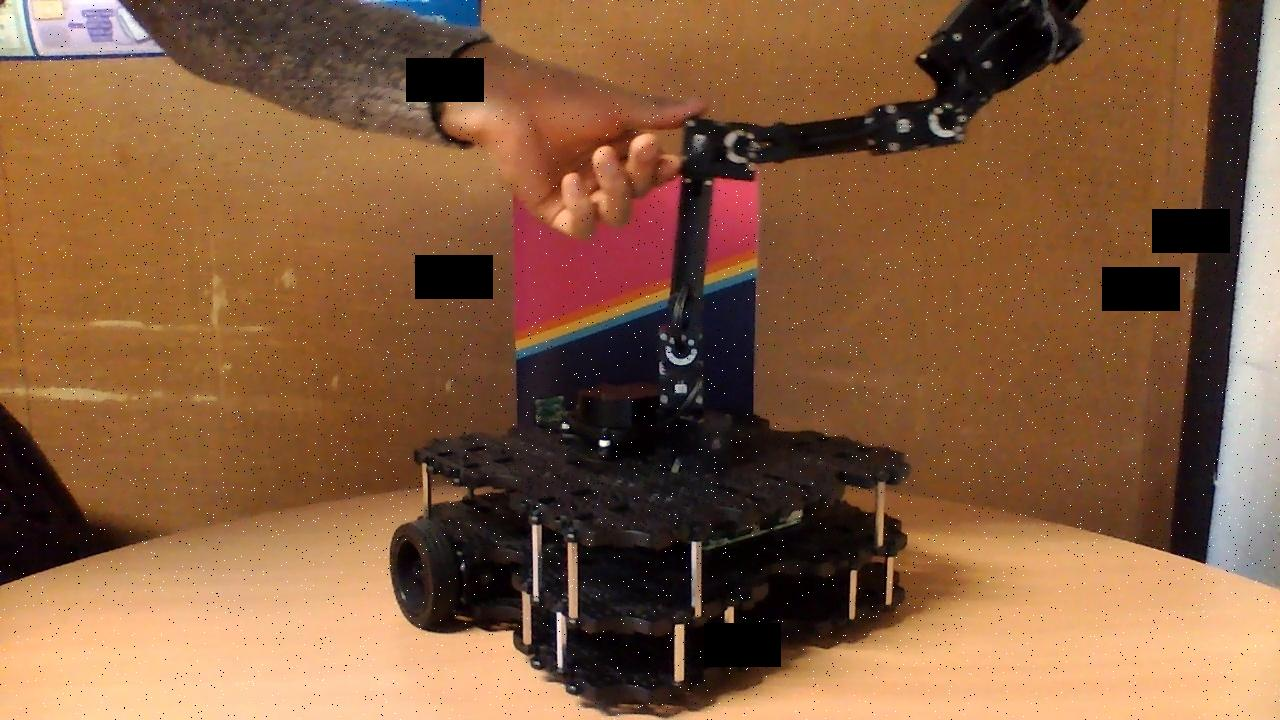Arm: (655, 117, 747, 373)
Hand: (916, 0, 1094, 154)
Wrist: (716, 96, 968, 180)
base: (387, 378, 913, 704)
